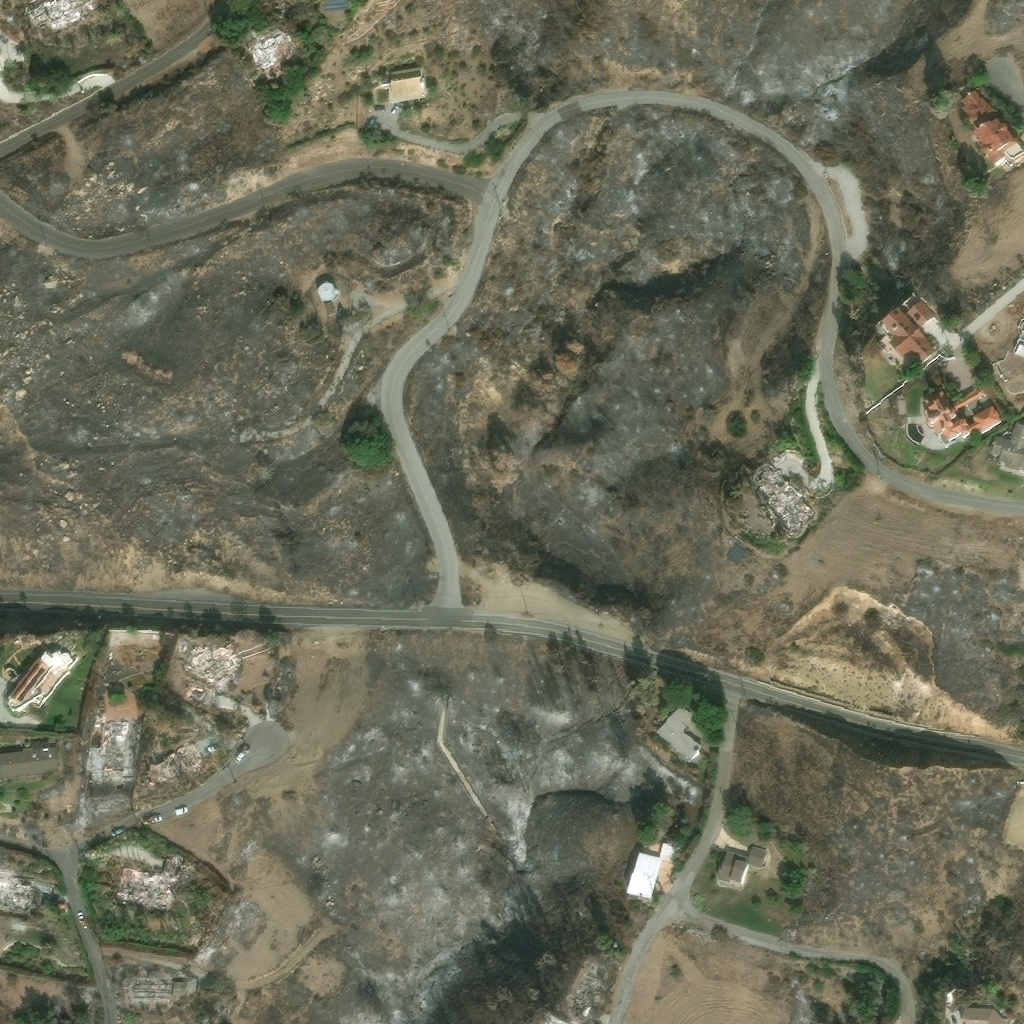0 no-damage: (917, 387, 1002, 448), (878, 305, 936, 368), (624, 840, 678, 901), (971, 112, 1023, 174), (654, 704, 703, 763), (711, 844, 768, 893), (0, 740, 59, 778), (986, 420, 1023, 473), (957, 88, 996, 132), (387, 67, 427, 104), (905, 299, 934, 328), (961, 1008, 1006, 1023), (315, 283, 335, 302), (322, 0, 349, 12), (323, 301, 335, 316)
1 minor-damage: (1, 647, 76, 718)
2 major-damage: (172, 981, 186, 996)
3 destroyed: (752, 464, 814, 536), (108, 855, 184, 913), (85, 719, 135, 790), (141, 739, 204, 787), (23, 0, 97, 39), (238, 21, 291, 72), (184, 651, 232, 685), (0, 870, 33, 915), (575, 959, 604, 997), (128, 980, 169, 1006), (568, 988, 594, 1019), (185, 685, 208, 704), (274, 0, 293, 22), (173, 634, 189, 658)
